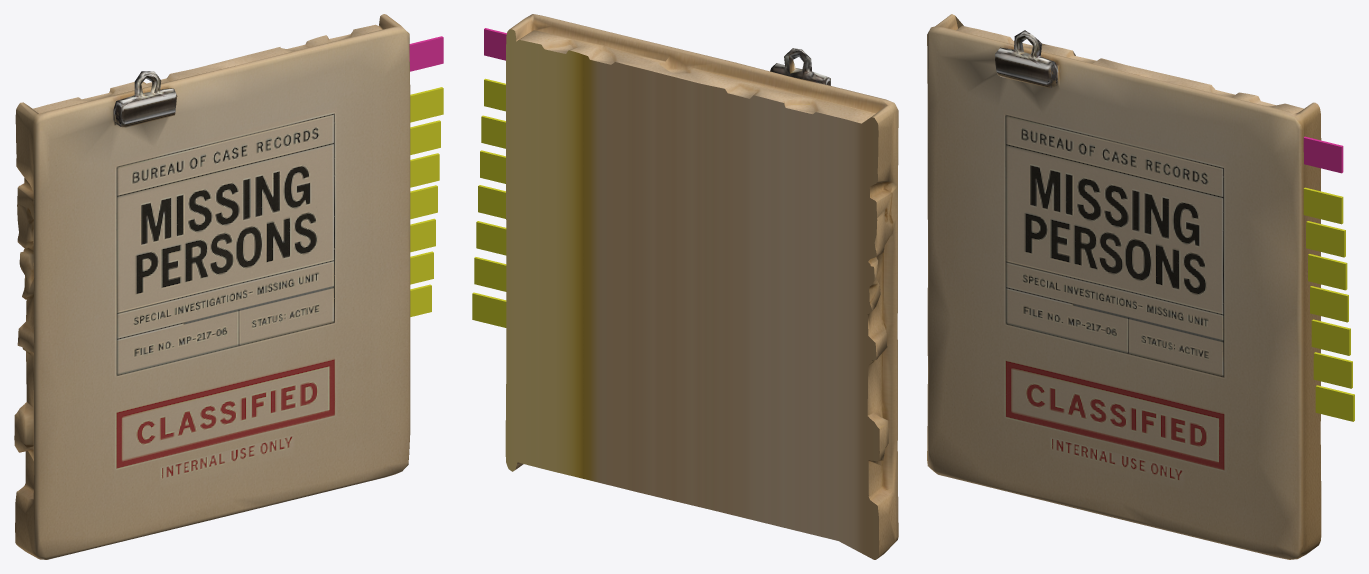
File: List.fbx
The picture shows the model from 3 angles, left to right: view 1: azimuth 30°, elevation 25°; view 2: azimuth 150°, elevation 25°; view 3: azimuth 330°, elevation 25°; orthographic projection.
Visible parts, largest first — view 1: material_0; view 2: material_0; view 3: material_0.
Boxes of the visible parts, x1,y1,x2,y2 form: material_0: (14,14,443,559); material_0: (472,14,898,559); material_0: (927,14,1354,559).
Bounding box in the file's own units: 91.75 × 99.91 × 11.81.
9 materials, 1 textured.
